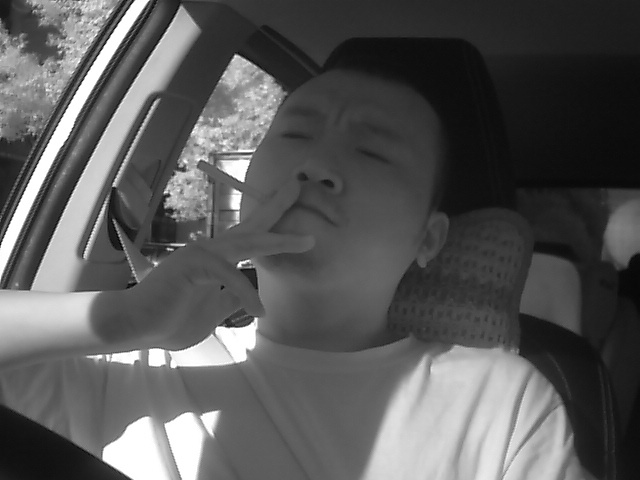hand: (136, 184, 313, 353)
